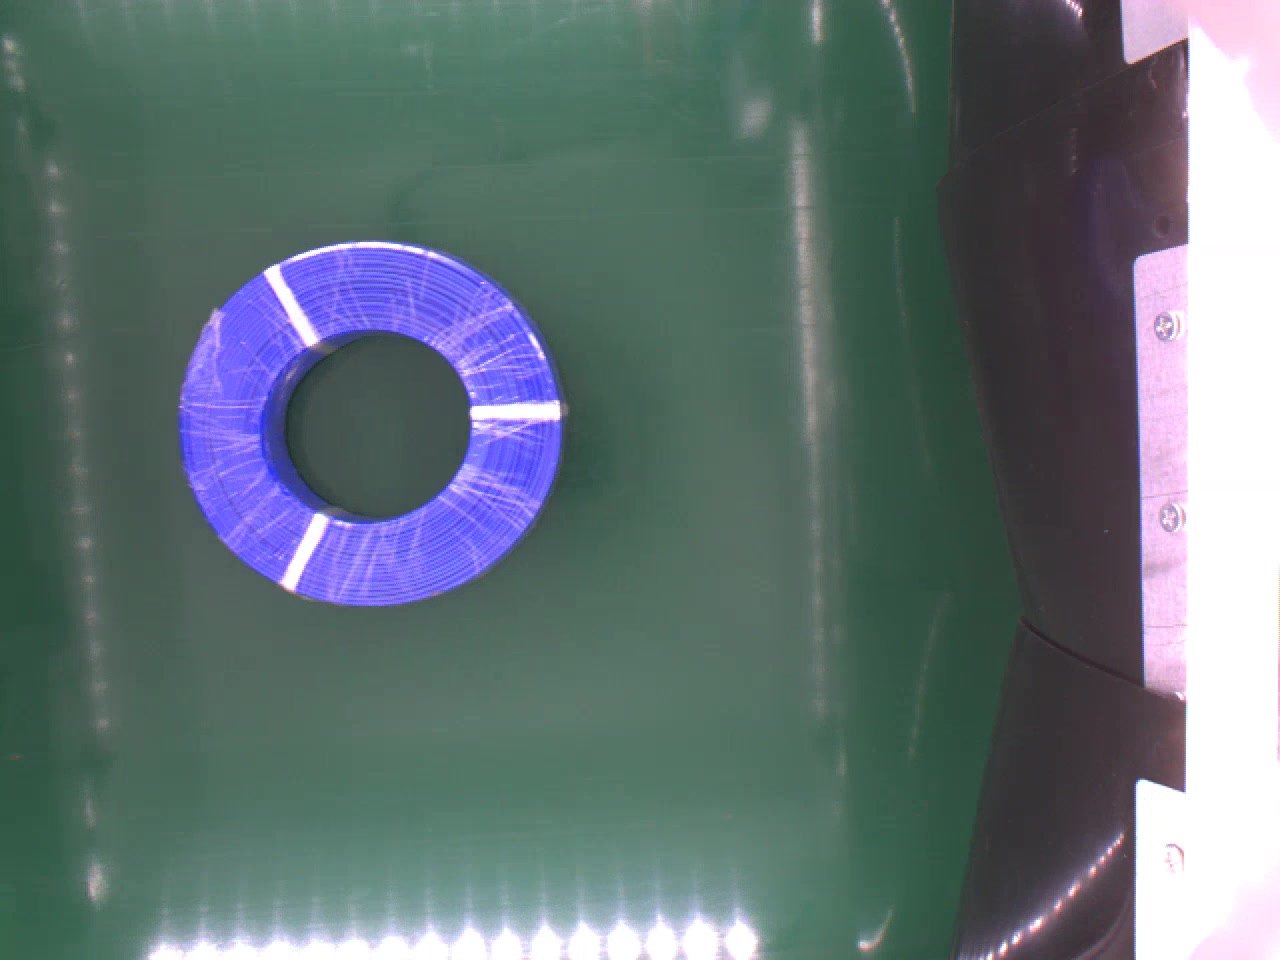blue: (172, 233, 571, 625)
